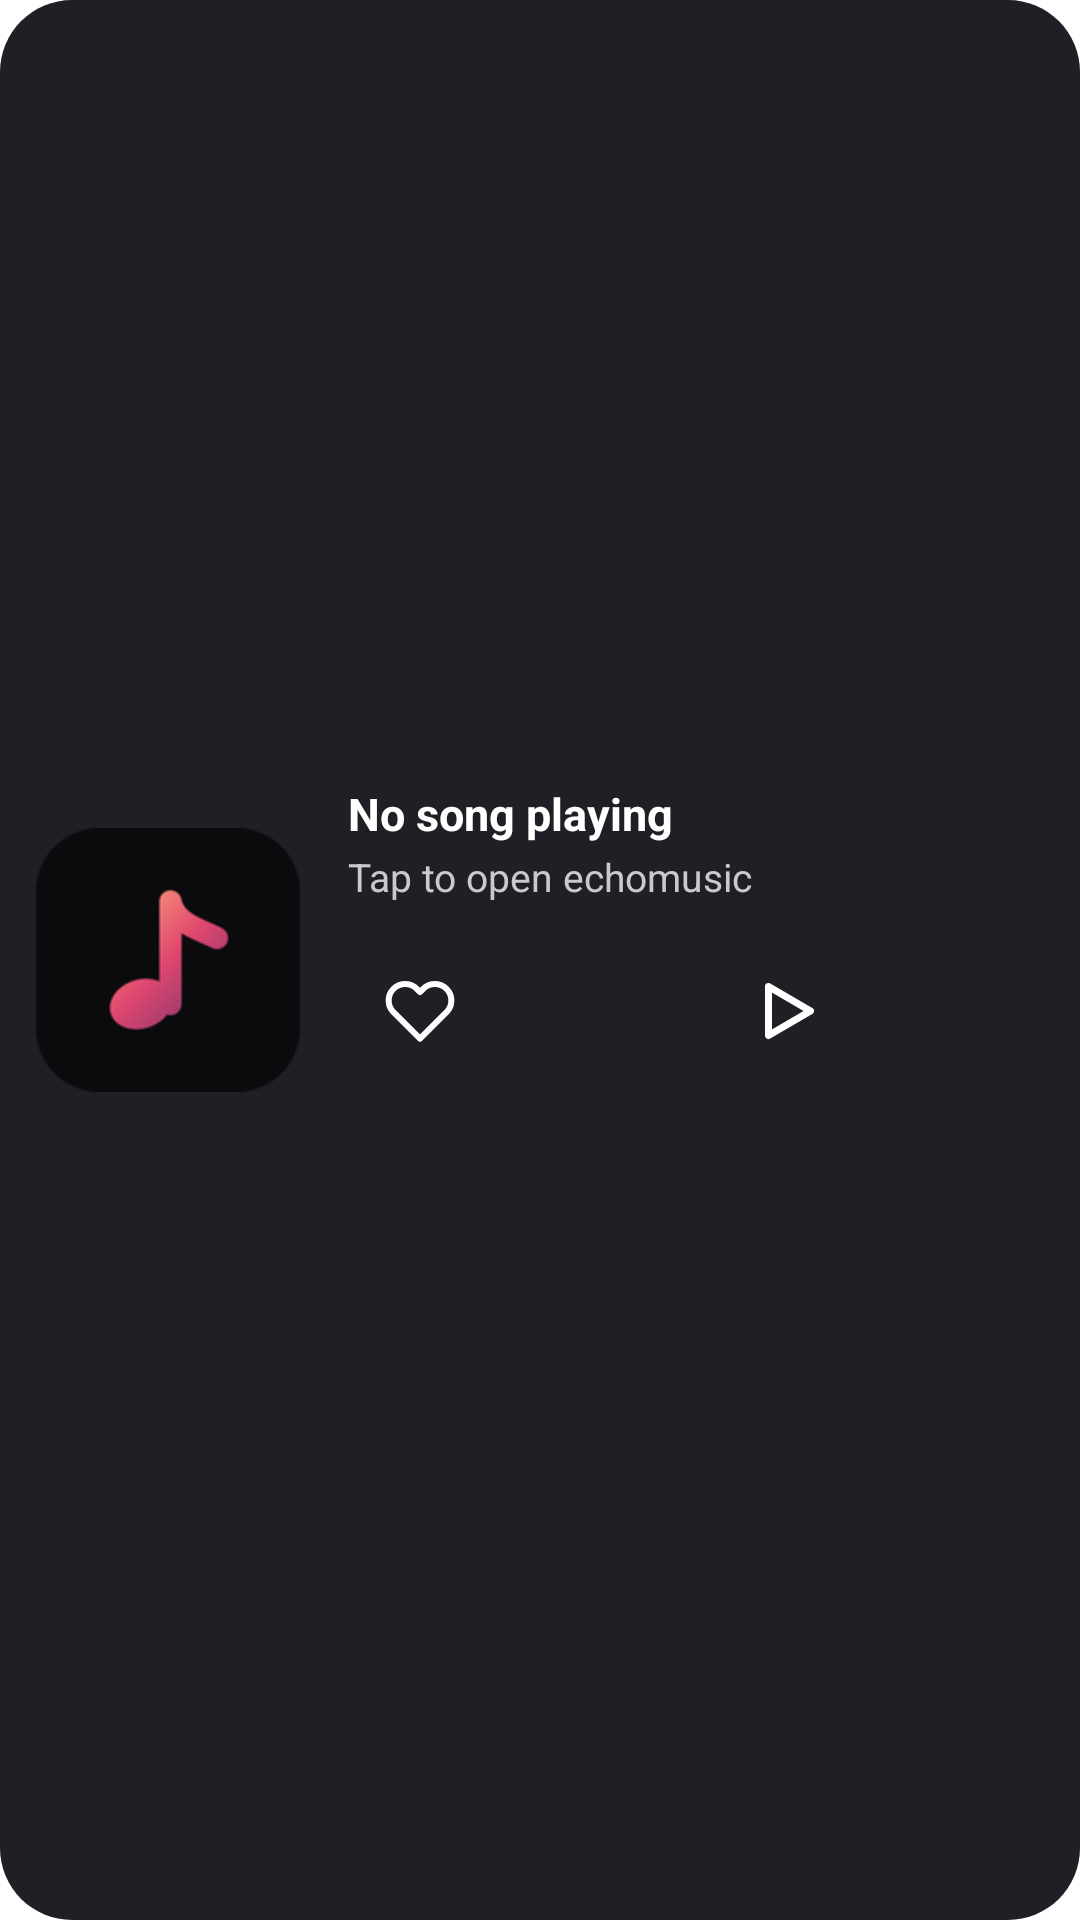

Icons on this 1080 x 1920 Android screen, each with its box as (x1, y1, x2, y2):
Like: (385, 981, 455, 1042)
Play/Pause: (765, 983, 814, 1040)
